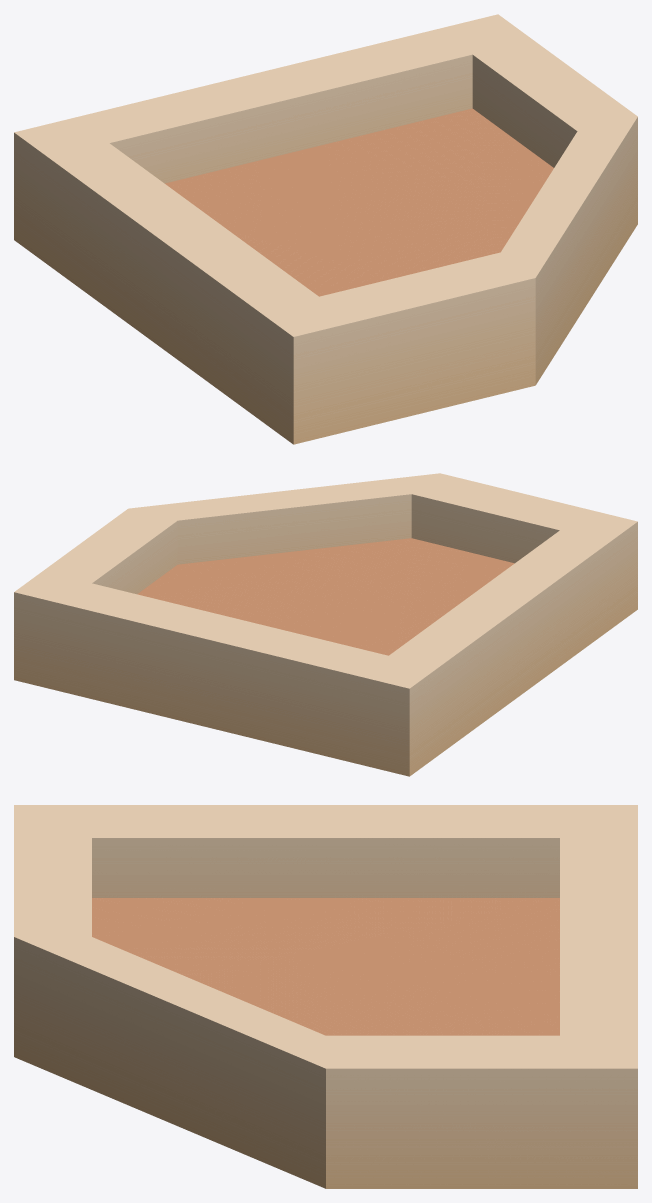
3 renders of one model, top to bottom at view 1: azimuth 30°, elevation 25°; view 2: azimuth 150°, elevation 25°; view 3: azimuth 270°, elevation 25°, orthographic. The views are drawn at different scales.
Parts seen in each view (by area): view 1: roof-flat-border-center-corner; view 2: roof-flat-border-center-corner; view 3: roof-flat-border-center-corner.
Part boxes in pixels (x1,y1,x2,y2): roof-flat-border-center-corner: (14, 14, 637, 444); roof-flat-border-center-corner: (14, 473, 637, 776); roof-flat-border-center-corner: (14, 805, 637, 1188).
Bounding box in the file's own units: 1 × 0.2125 × 1.
Materials: 1 (1 with a texture image).
